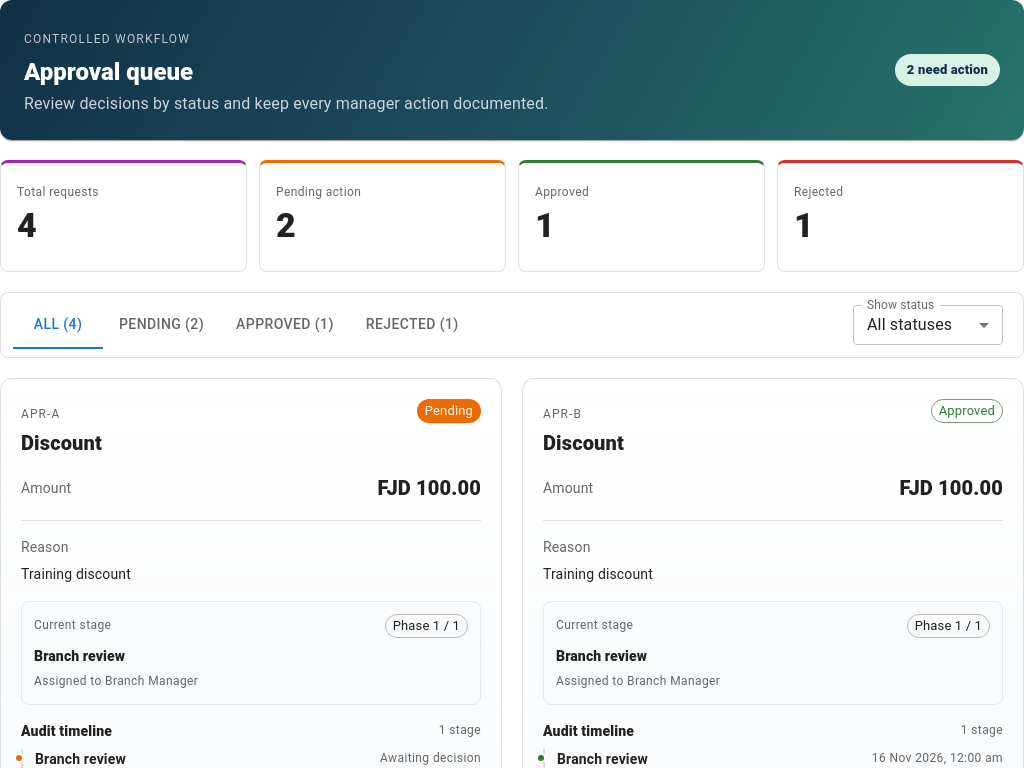
filters the queue, renders audit stages and hides decisions for unauthorized or completed records
Step 1. Click the tab "Approved (1)" → [285, 325], box [220, 301, 350, 349]
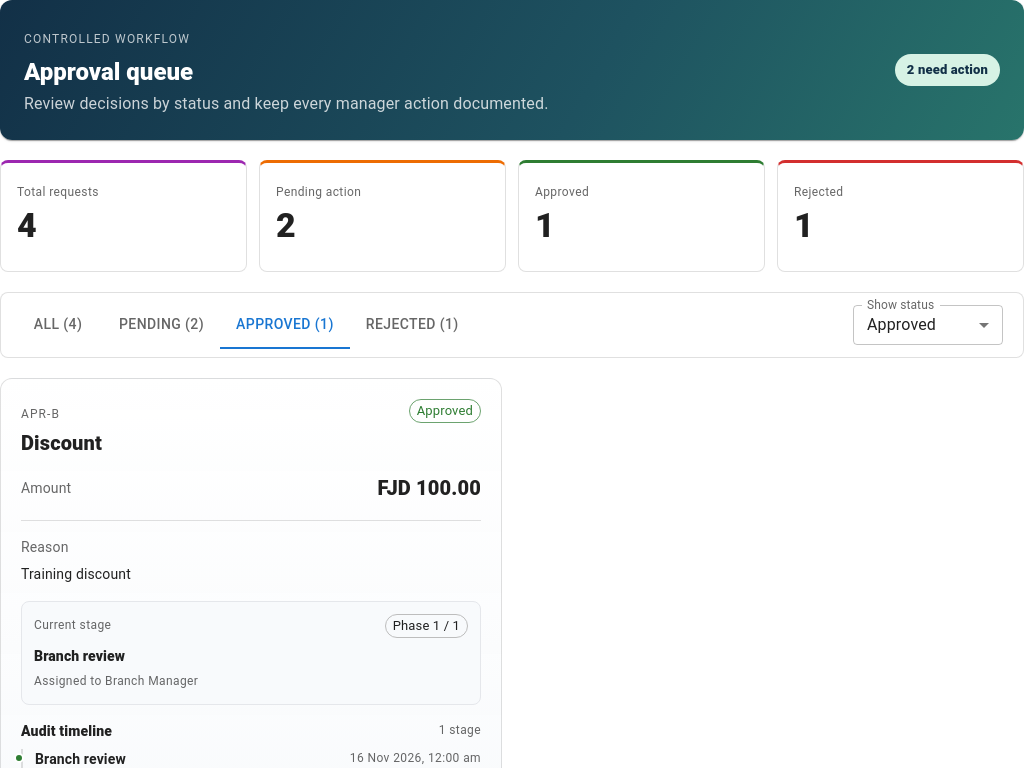
Expected: the text "APR-b" is shown, [21, 407, 60, 421]
Now the text "APR-a" is gone
Step 2. Press the mouse on the dropdown named "Show status" → [902, 325], box [867, 315, 936, 334]
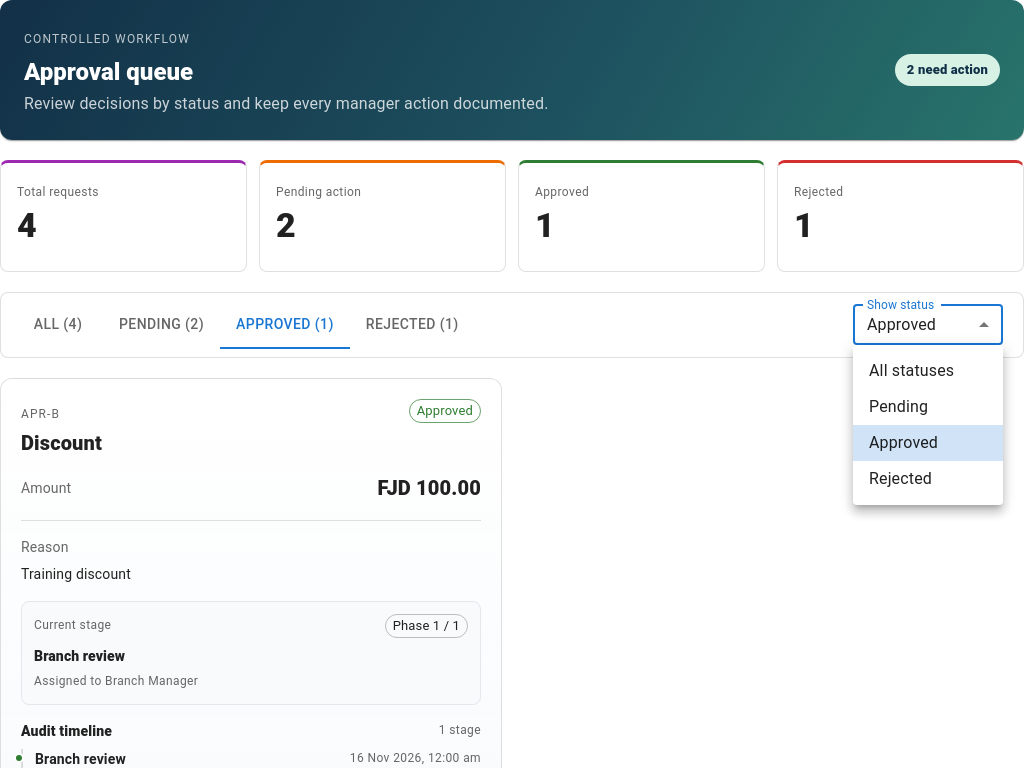
Step 3. Click the option "Rejected" → [900, 478], box [869, 469, 932, 488]
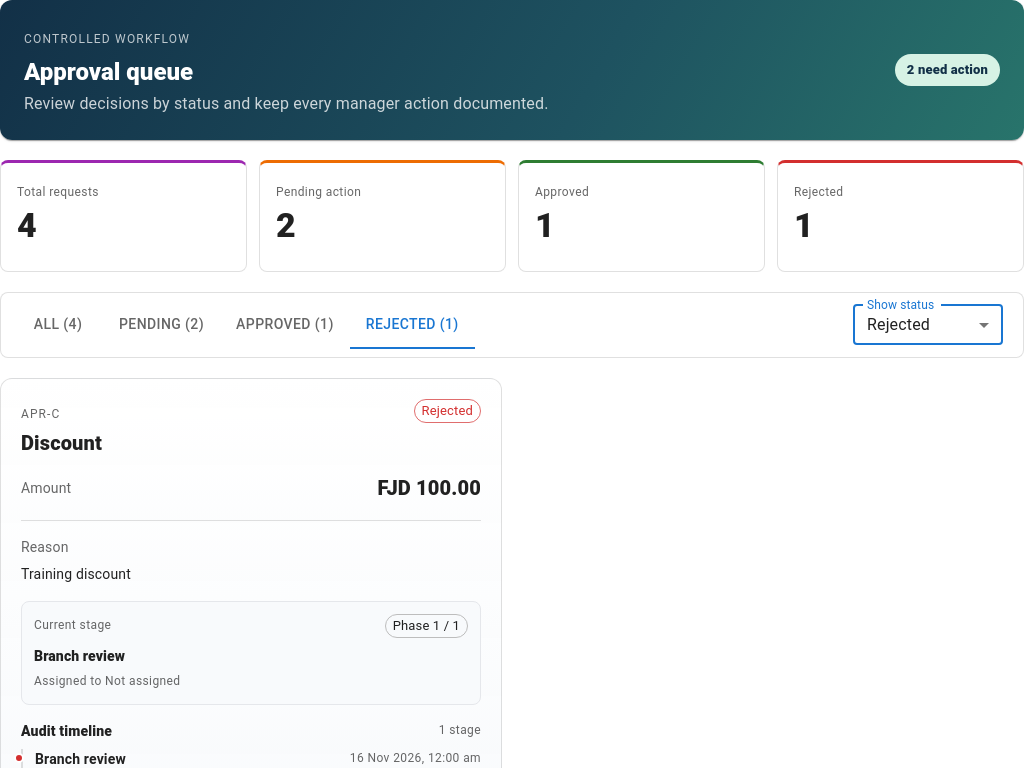
Now the text "APR-c" is shown, box [21, 407, 60, 421]
